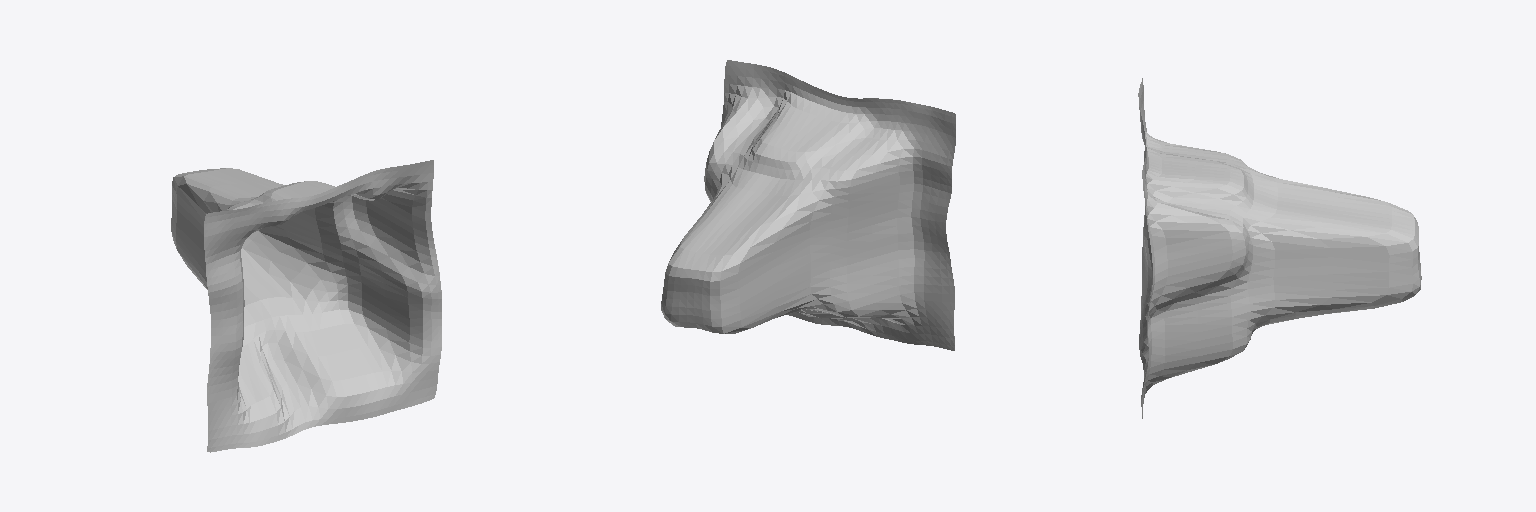
The model's file is pool.obj.
3 renders of one model, left to right at view 1: azimuth 30°, elevation 25°; view 2: azimuth 150°, elevation 25°; view 3: azimuth 270°, elevation 25°, orthographic.
Size of the model in its own units: 40.44 by 39.37 by 41.26.